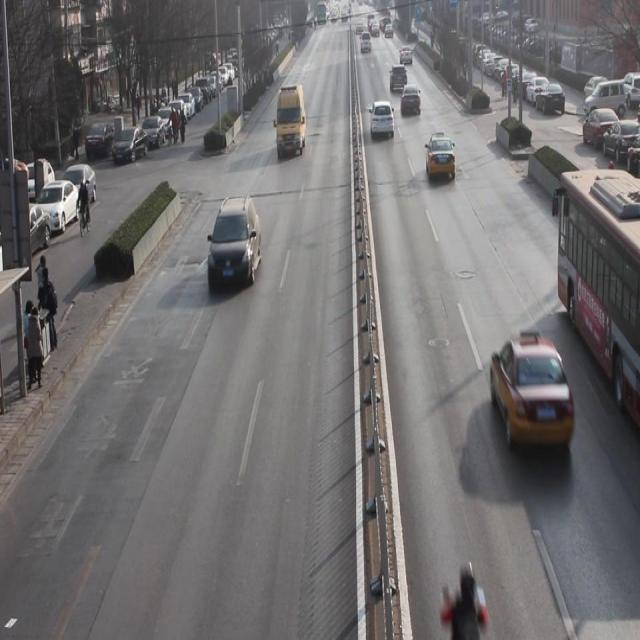car: (490, 336, 578, 458), (209, 195, 264, 296), (426, 134, 458, 184), (370, 97, 395, 142), (401, 85, 422, 120), (391, 62, 408, 94), (400, 45, 416, 66)
truck: (277, 82, 306, 159)
van: (558, 168, 640, 421)
